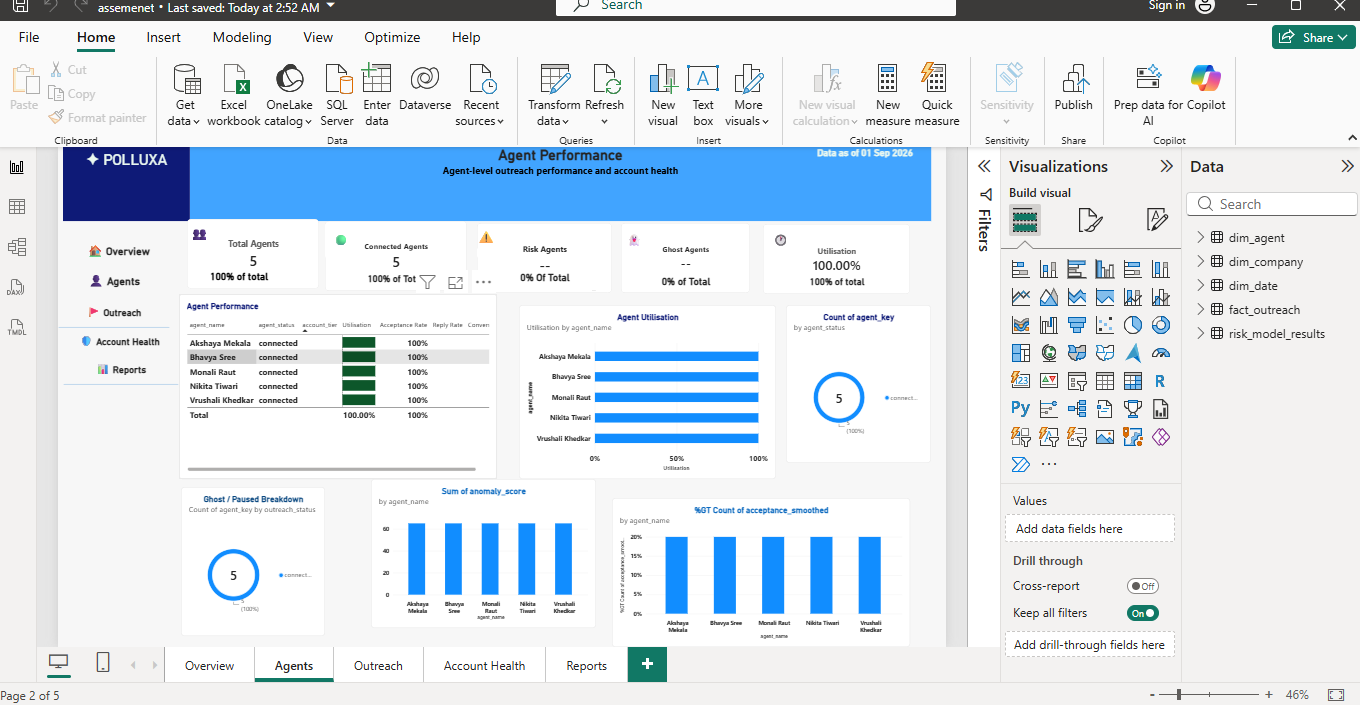

The dashboard page shown, as its layout file describes it:
{"tool":"powerbi","page":{"name":"Agents","canvas":[1920,1080],"ordinal":1},"visuals":[{"type":"textbox","title":"Agent Performance","box":[285.1,0,1600.6,159.8],"z":0},{"type":"textbox","box":[10.8,790.6,185.8,149],"z":2},{"type":"textbox","title":"✦ POLLUXA","box":[10.8,0,274.3,159.8],"z":3},{"type":"textbox","title":"Data as of 01 Sep 2026","box":[1600.6,0,285.1,69.1],"z":4},{"type":"actionButton","title":"🏠 Overview","box":[0,205.2,261.4,36.7],"z":5},{"type":"cardVisual","fields":{"Data":["dim_agent.Total Agents"]},"box":[278.6,155.5,285,150],"z":6},{"type":"textbox","title":"100% of total","box":[328.3,267.8,136.1,38.9],"z":7},{"type":"actionButton","title":"👥","box":[285.1,164.2,58.3,38.9],"z":8},{"type":"cardVisual","fields":{"Data":["dim_agent.Connected Agents"]},"box":[576.7,159.8,306.7,151.2],"z":9},{"type":"textbox","title":"100% of Total","box":[635,272.2,187.9,34.6],"z":10},{"type":"actionButton","box":[0,34.6,99.4,6.5],"z":11},{"type":"actionButton","box":[576.7,164.2,69.1,75.6],"z":12},{"type":"cardVisual","fields":{"Data":["dim_agent.Risk Agents"]},"box":[905,164.2,291.6,151.2],"z":13},{"type":"textbox","title":"0% Of Total","box":[941.8,270,220.3,41],"z":14},{"type":"actionButton","title":"⚠️","box":[905,170.6,73.4,69.1],"z":15},{"type":"cardVisual","fields":{"Data":["dim_agent.Ghost Agents"]},"box":[1216.1,164.2,278.6,151.2],"z":16},{"type":"textbox","title":"0% of Total","box":[1244.2,278.6,224.6,36.7],"z":17},{"type":"actionButton","title":" 👻","box":[1216.1,183.6,58.3,41],"z":18},{"type":"cardVisual","fields":{"Data":["dim_agent.Utilisation"]},"box":[1522.8,166.3,317.5,151.2],"z":19},{"type":"textbox","title":"100% of total","box":[1572.5,278.6,220.3,38.9],"z":20},{"type":"actionButton","title":" 🕐","box":[1522.8,183.6,77.8,41],"z":21},{"type":"tableEx","title":"Agent Performance","fields":{"Values":["dim_agent.agent_name","dim_agent.agent_status","dim_agent.account_tier","dim_agent.Utilisation","dim_agent.Acceptance Rate","dim_agent.Reply Rate","dim_agent.Conversion"]},"box":[261.4,317.5,686.9,399.6],"z":22},{"type":"clusteredBarChart","title":"Agent Utilisation","fields":{"Category":["dim_agent.agent_name"],"Y":["dim_agent.Utilisation"]},"box":[995.8,341.3,555.1,375.8],"z":23},{"type":"donutChart","fields":{"Category":["dim_agent.agent_status"],"Y":["CountNonNull(dim_agent.agent_key)"]},"box":[1572.5,341.3,313.2,341.3],"z":24},{"type":"donutChart","title":"Ghost / Paused Breakdown","fields":{"Category":["fact_outreach.outreach_status"],"Y":["CountNonNull(fact_outreach.agent_key)"]},"box":[265.7,734.4,311,321.8],"z":25},{"type":"columnChart","fields":{"Category":["dim_agent.agent_name"],"Y":["Sum(risk_model_results.anomaly_score)"]},"box":[676.1,717.1,486,321.8],"z":26},{"type":"columnChart","fields":{"Category":["risk_model_results.agent_name"],"Y":["Sum(risk_model_results.acceptance_smoothed)"]},"box":[1196.6,758.2,643.7,321.8],"z":27},{"type":"actionButton","title":"👤 Agents","box":[0,270,241.9,47.5],"z":28},{"type":"actionButton","title":"🚩 Outreach","box":[0,341.3,241.9,47.5],"z":29},{"type":"actionButton","title":"🛡️ Account Health","box":[0,403.9,265.7,45.4],"z":30},{"type":"actionButton","title":"📊 Reports","box":[10.8,464.4,250.6,47.5],"z":31}]}

Visuals, with their boxes on the page's 1920x1080 design canvas (x1, y1, x2, y2). These are canvas units, not pixel positions in the 1360x705 screenshot, which may show the page scaled, cropped or inside an application window:
"Agent Performance" textbox: 285, 0, 1886, 160
textbox: 11, 791, 197, 940
"✦ POLLUXA" textbox: 11, 0, 285, 160
"Data as of 01 Sep 2026" textbox: 1601, 0, 1886, 69
"🏠 Overview" actionButton: 0, 205, 261, 242
cardVisual - dim_agent.Total Agents: 279, 156, 564, 306
"100% of total" textbox: 328, 268, 464, 307
"👥" actionButton: 285, 164, 343, 203
cardVisual - dim_agent.Connected Agents: 577, 160, 883, 311
"100% of Total" textbox: 635, 272, 823, 307
actionButton: 0, 35, 99, 41
actionButton: 577, 164, 646, 240
cardVisual - dim_agent.Risk Agents: 905, 164, 1197, 315
"0% Of Total" textbox: 942, 270, 1162, 311
"⚠️" actionButton: 905, 171, 978, 240
cardVisual - dim_agent.Ghost Agents: 1216, 164, 1495, 315
"0% of Total" textbox: 1244, 279, 1469, 315
" 👻" actionButton: 1216, 184, 1274, 225
cardVisual - dim_agent.Utilisation: 1523, 166, 1840, 318
"100% of total" textbox: 1572, 279, 1793, 318
" 🕐" actionButton: 1523, 184, 1601, 225
"Agent Performance" tableEx: 261, 318, 948, 717
"Agent Utilisation" clusteredBarChart: 996, 341, 1551, 717
donutChart - dim_agent.agent_status x CountNonNull(dim_agent.agent_key): 1572, 341, 1886, 683
"Ghost / Paused Breakdown" donutChart: 266, 734, 577, 1056
columnChart - dim_agent.agent_name x Sum(risk_model_results.anomaly_score): 676, 717, 1162, 1039
columnChart - risk_model_results.agent_name x Sum(risk_model_results.acceptance_smoothed): 1197, 758, 1840, 1080
"👤 Agents" actionButton: 0, 270, 242, 318
"🚩 Outreach" actionButton: 0, 341, 242, 389
"🛡️ Account Health" actionButton: 0, 404, 266, 449
"📊 Reports" actionButton: 11, 464, 261, 512
